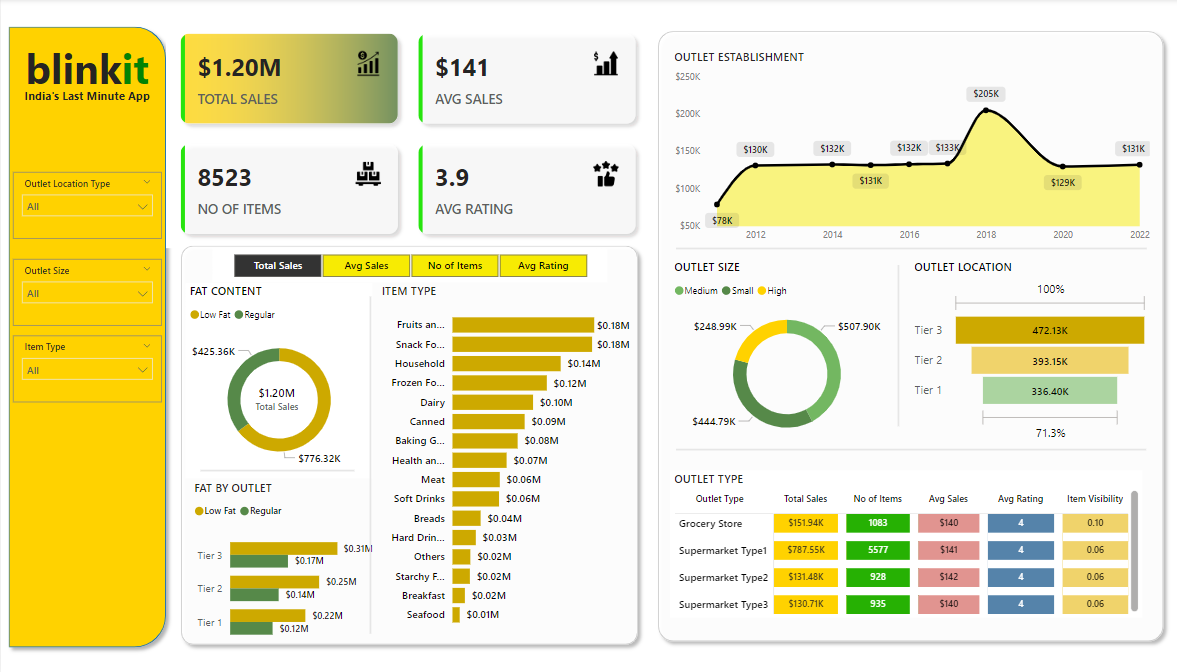

This screenshot's page, from the dashboard's own definition file:
{"tool":"powerbi","page":{"name":"Page 1","canvas":[1400,800],"ordinal":0},"visuals":[{"type":"shape","box":[0,24.7,203.2,749.4],"z":0},{"type":"textbox","box":[7.1,100.7,189.1,33.6],"z":1000},{"type":"textbox","box":[14.1,44.2,175,74.2],"z":2000},{"type":"cardVisual","fields":{"Data":["BlinkIT Grocery Data.Total Sales","BlinkIT Grocery Data.Avg Sales","BlinkIT Grocery Data.No of Items","BlinkIT Grocery Data.Avg Rating"]},"box":[195,25,570,270],"z":3000},{"type":"shape","box":[203.3,283.3,556,488],"z":4000},{"type":"donutChart","title":"FAT CONTENT","fields":{"Y":["BlinkIT Grocery Data.Total Sales"],"Category":["BlinkIT Grocery Data.Item Fat Content"]},"box":[216.7,336.7,220,230],"z":5000},{"type":"slicer","fields":{"Values":["Metrics.Metrics"]},"box":[248.3,295,465,40],"z":6000},{"type":"cardVisual","fields":{"Data":["BlinkIT Grocery Data.Total Sales"]},"box":[281.7,438.3,88.3,56.7],"z":7000},{"type":"clusteredBarChart","title":"FAT BY OUTLET","fields":{"Y":["BlinkIT Grocery Data.Total Sales"],"Category":["BlinkIT Grocery Data.Outlet Location Type"],"Series":["BlinkIT Grocery Data.Item Fat Content"]},"box":[223.3,566.7,220,205],"z":8000},{"type":"shape","box":[234.3,550,181.4,14.3],"z":9000},{"type":"shape","box":[426.2,351.2,18.8,397.5],"z":10000},{"type":"barChart","title":"ITEM TYPE","fields":{"Y":["BlinkIT Grocery Data.Total Sales"],"Category":["BlinkIT Grocery Data.Item Type"]},"box":[444,336,302,414],"z":11000},{"type":"shape","box":[765.3,30,613.3,737],"z":12000},{"type":"lineChart","title":"OUTLET ESTABLISHMENT","fields":{"Category":["BlinkIT Grocery Data.Outlet Establishment Year"],"Y":["BlinkIT Grocery Data.Total Sales"]},"box":[787.8,60,570,235.6],"z":13000},{"type":"shape","box":[795.3,284.5,554.9,21.2],"z":14000},{"type":"donutChart","title":"OUTLET SIZE","fields":{"Y":["BlinkIT Grocery Data.Total Sales"],"Category":["BlinkIT Grocery Data.Outlet Size"]},"box":[788.3,306.7,275,225],"z":15000},{"type":"shape","box":[1051.7,315,11.7,190],"z":16000},{"type":"funnel","title":" OUTLET LOCATION","fields":{"Y":["Sum(BlinkIT Grocery Data.Sales)"],"Category":["BlinkIT Grocery Data.Outlet Location Type"]},"box":[1071.4,307.1,285.7,220],"z":17000},{"type":"shape","box":[795.7,521.4,554.3,21.4],"z":18000},{"type":"pivotTable","title":"OUTLET TYPE","fields":{"Rows":["BlinkIT Grocery Data.Outlet Type"],"Values":["BlinkIT Grocery Data.Total Sales","BlinkIT Grocery Data.No of Items","BlinkIT Grocery Data.Avg Sales","BlinkIT Grocery Data.Avg Rating","Avg(BlinkIT Grocery Data.Item Visibility)"]},"box":[788.3,556.7,556.7,173.3],"z":19000},{"type":"slicer","fields":{"Values":["BlinkIT Grocery Data.Outlet Location Type"]},"box":[15,205,175,78.3],"z":20000},{"type":"slicer","fields":{"Values":["BlinkIT Grocery Data.Outlet Size"]},"box":[13.3,306.7,175,78.3],"z":21000},{"type":"slicer","fields":{"Values":["BlinkIT Grocery Data.Item Type"]},"box":[15,398.3,175,78.3],"z":22000}]}

Visuals, with their boxes in screenshot pixels (x1, y1, x2, y2), scaled from the page's 1400x800 canvas onto the 1177x672 screenshot:
shape: <bbox>0, 21, 171, 650</bbox>
textbox: <bbox>6, 85, 165, 113</bbox>
textbox: <bbox>12, 37, 159, 99</bbox>
cardVisual - BlinkIT Grocery Data.Total Sales x BlinkIT Grocery Data.Avg Sales: <bbox>164, 21, 643, 248</bbox>
shape: <bbox>171, 238, 638, 648</bbox>
"FAT CONTENT" donutChart: <bbox>182, 283, 367, 476</bbox>
slicer - Metrics.Metrics: <bbox>209, 248, 600, 281</bbox>
cardVisual - BlinkIT Grocery Data.Total Sales: <bbox>237, 368, 311, 416</bbox>
"FAT BY OUTLET" clusteredBarChart: <bbox>188, 476, 373, 648</bbox>
shape: <bbox>197, 462, 349, 474</bbox>
shape: <bbox>358, 295, 374, 629</bbox>
"ITEM TYPE" barChart: <bbox>373, 282, 627, 630</bbox>
shape: <bbox>643, 25, 1159, 644</bbox>
"OUTLET ESTABLISHMENT" lineChart: <bbox>662, 50, 1142, 248</bbox>
shape: <bbox>669, 239, 1135, 257</bbox>
"OUTLET SIZE" donutChart: <bbox>663, 258, 894, 447</bbox>
shape: <bbox>884, 265, 894, 424</bbox>
" OUTLET LOCATION" funnel: <bbox>901, 258, 1141, 443</bbox>
shape: <bbox>669, 438, 1135, 456</bbox>
"OUTLET TYPE" pivotTable: <bbox>663, 468, 1131, 613</bbox>
slicer - BlinkIT Grocery Data.Outlet Location Type: <bbox>13, 172, 160, 238</bbox>
slicer - BlinkIT Grocery Data.Outlet Size: <bbox>11, 258, 158, 323</bbox>
slicer - BlinkIT Grocery Data.Item Type: <bbox>13, 335, 160, 400</bbox>
